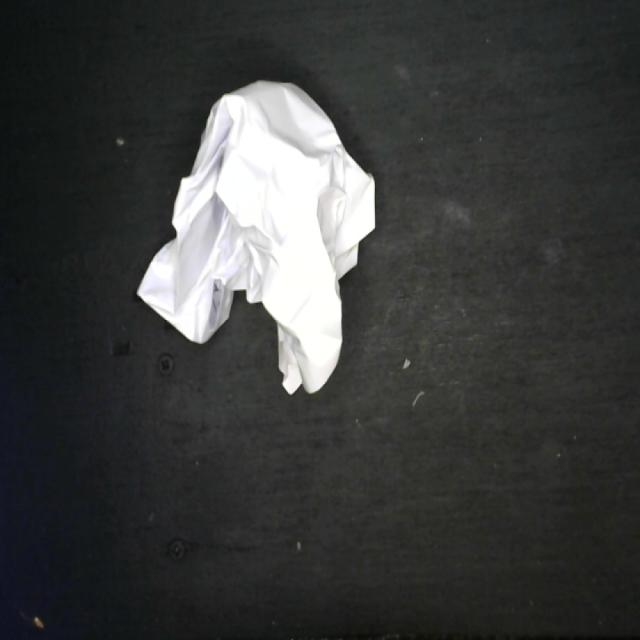biodegradable: (134, 75, 379, 401)
